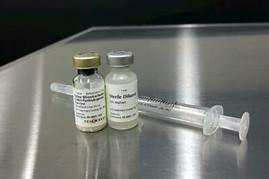Syringe: (104, 46, 142, 132), (69, 50, 107, 134)
